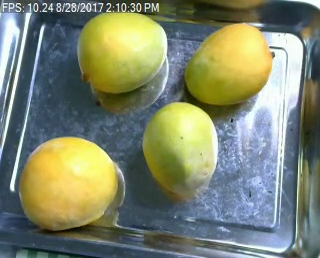Mango: (17, 137, 116, 230), (141, 99, 217, 192), (182, 23, 271, 102), (78, 12, 166, 90)
